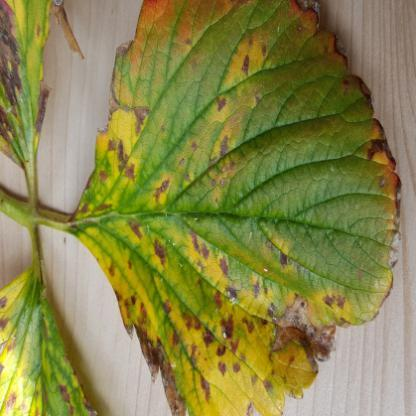Strawberry_Angular_LeafSpot: (63, 0, 403, 415), (0, 265, 101, 416), (0, 0, 86, 170)
